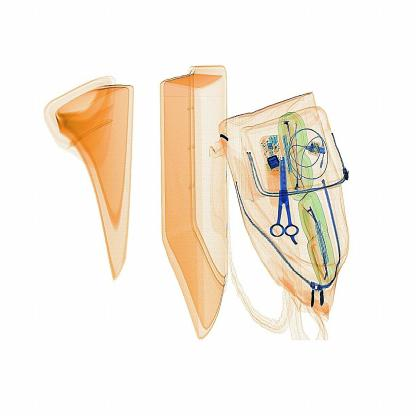gun: (264, 146, 303, 251)
